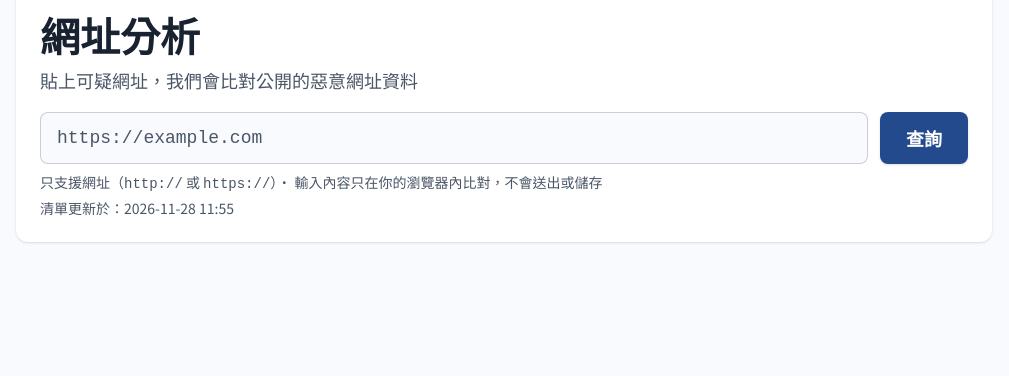
網址分析頁 › 「」不是網址 → 顯示「請輸入網址」且不顯示燈號
The image size is (1009, 376).
Expected: the text "清單更新於：2026-11-28 11:55" is shown, [40, 198, 234, 218]
Clear the field named "要查詢的網址" at point(454, 138), box [40, 112, 868, 164]
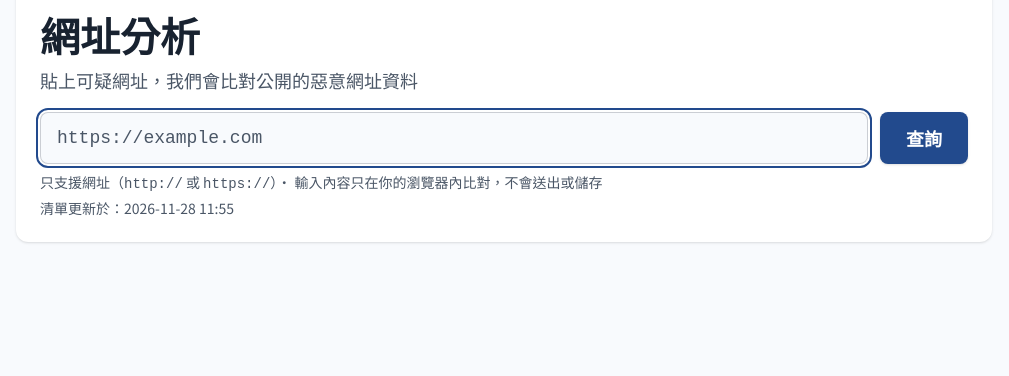
Click the button "查詢".
click(924, 138)  # box [880, 112, 968, 164]
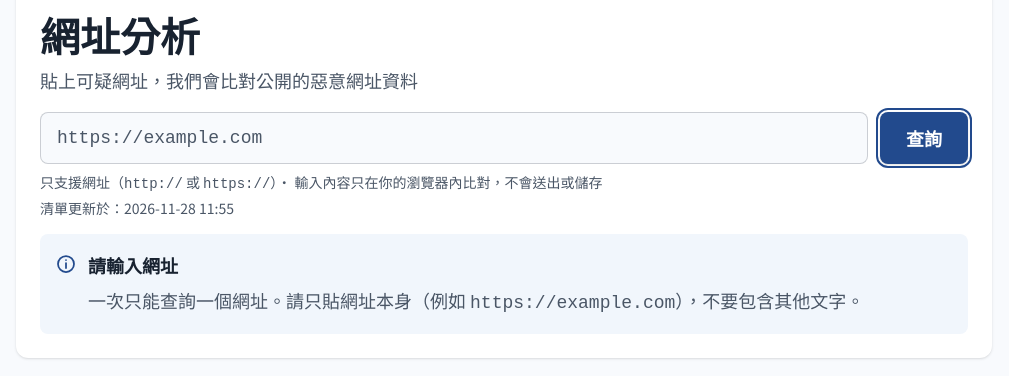
Now the text "請輸入網址" is shown, box [88, 252, 178, 278]
